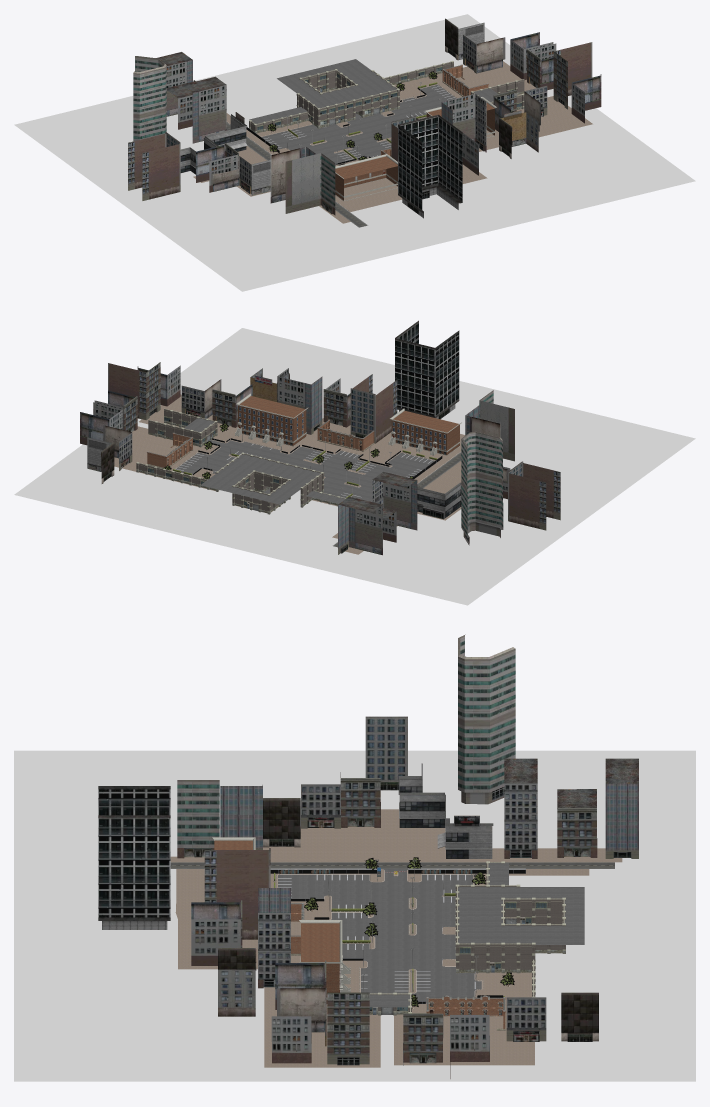
Rendered from driving school.glb.
The picture shows the model from 3 angles, top to bottom: view 1: azimuth 30°, elevation 25°; view 2: azimuth 150°, elevation 25°; view 3: azimuth 270°, elevation 25°; orthographic projection. The views are drawn at different scales.
Parts seen in each view (by area): view 1: mesh, phy-body-main-trimesh-0kg-floor; view 2: mesh, phy-body-main-trimesh-0kg-floor; view 3: mesh, phy-body-main-trimesh-0kg-floor.
Part boxes in pixels (<box>): mesh: <box>128,18,601,227</box>; phy-body-main-trimesh-0kg-floor: <box>14,14,695,291</box>; mesh: <box>80,320,560,555</box>; phy-body-main-trimesh-0kg-floor: <box>14,328,695,605</box>; mesh: <box>62,634,638,1078</box>; phy-body-main-trimesh-0kg-floor: <box>14,750,695,1081</box>.
Size of what is drawn, in the model's own units: 306 by 61.66 by 258.
Materials: 23 (23 with a texture image).
